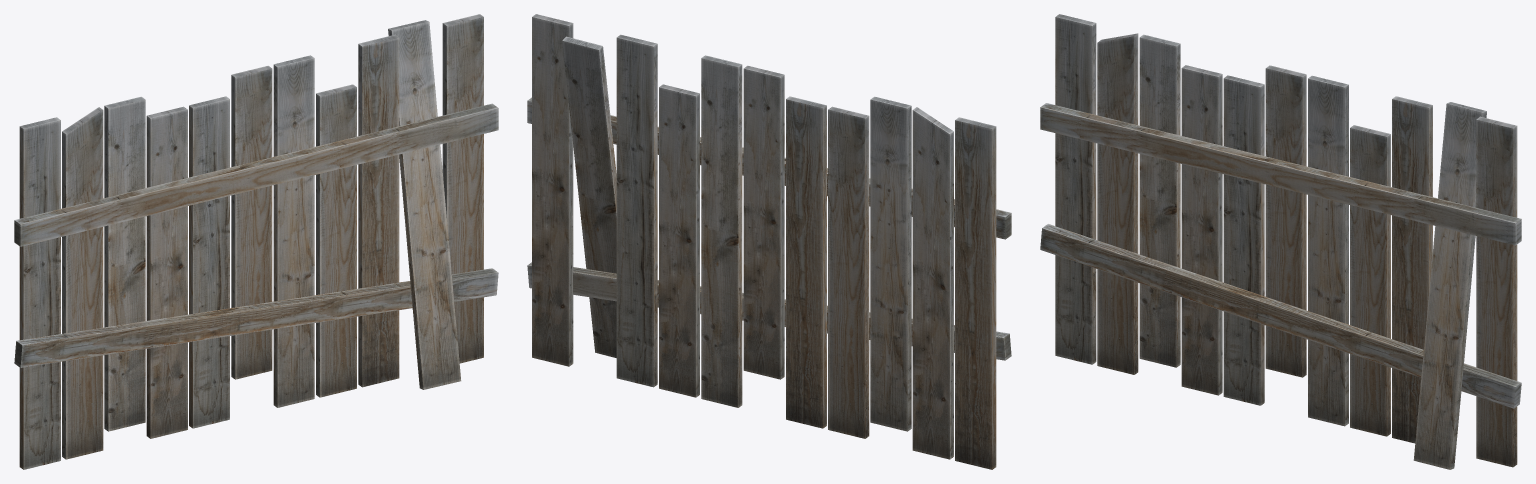
Rendered from hedgeWoodHighD.FBX.
3 renders of one model, left to right at view 1: azimuth 30°, elevation 25°; view 2: azimuth 150°, elevation 25°; view 3: azimuth 330°, elevation 25°, orthographic.
Visible parts, largest first — view 1: hedgeWoodHighD; view 2: hedgeWoodHighD; view 3: hedgeWoodHighD.
Part boxes in pixels (bbox=[...]): hedgeWoodHighD: bbox=[14, 14, 498, 469]; hedgeWoodHighD: bbox=[527, 14, 1011, 469]; hedgeWoodHighD: bbox=[1040, 14, 1521, 469].
Bounding box in the file's own units: 103 × 70 × 13.71.
